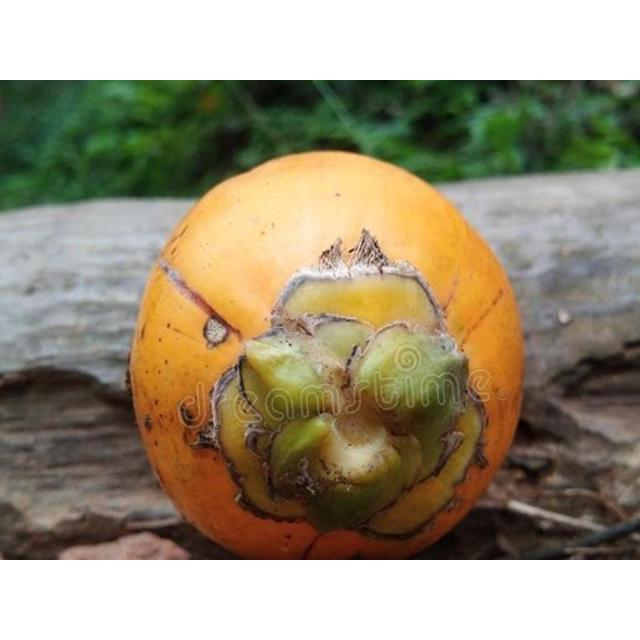good: (128, 152, 525, 559)
